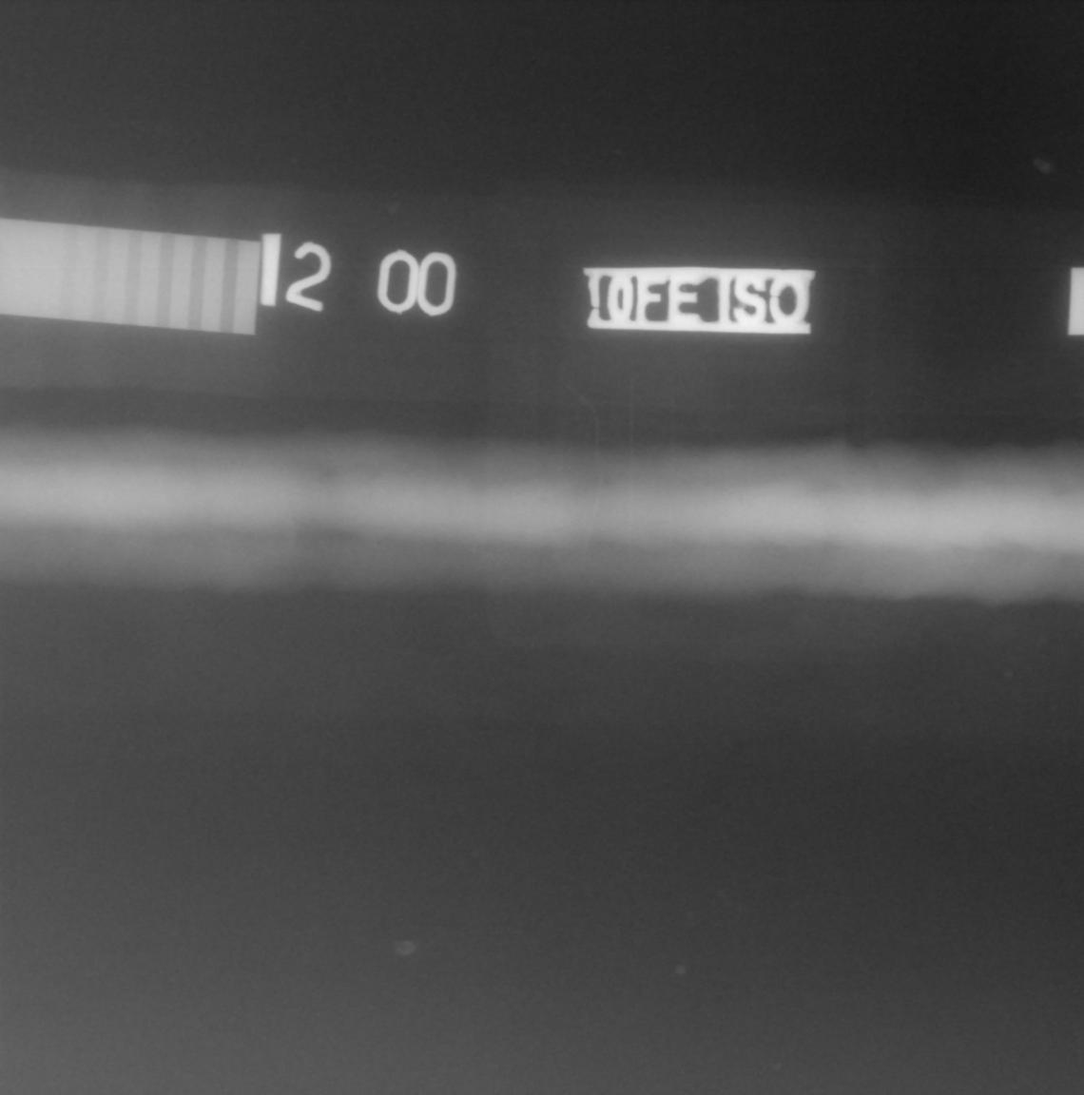Pore/Porosity: (540, 497, 547, 502)
